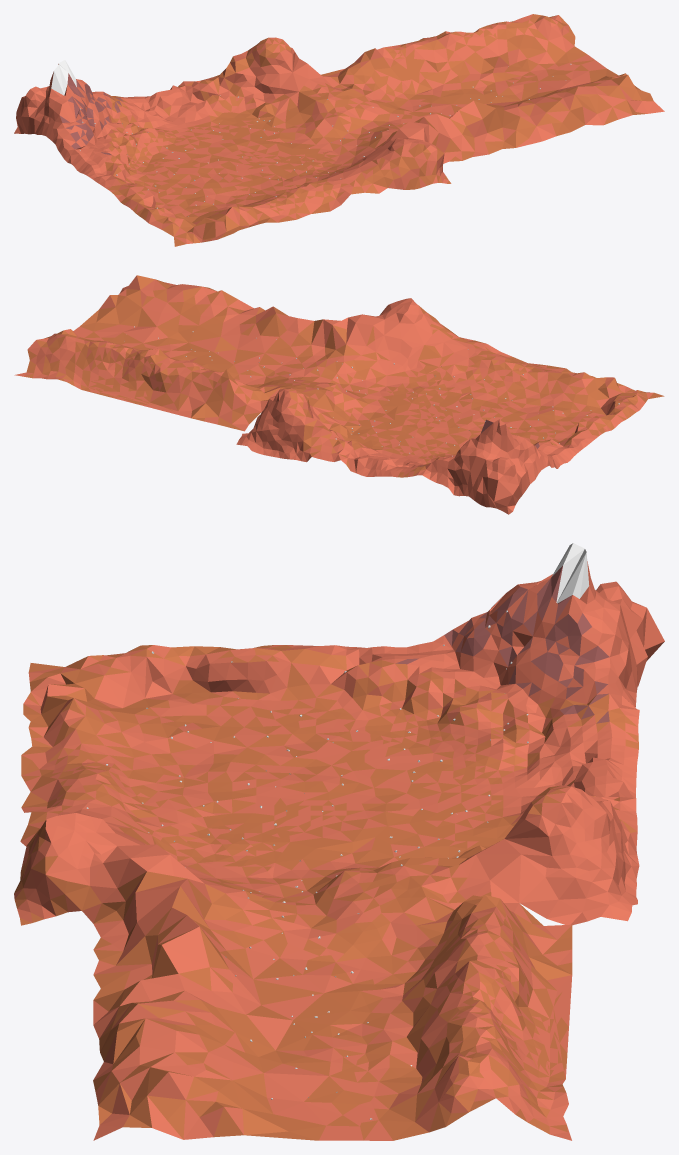
File: Marsian surfacee.fbx
3 renders of one model, top to bottom at view 1: azimuth 30°, elevation 25°; view 2: azimuth 150°, elevation 25°; view 3: azimuth 270°, elevation 25°, orthographic. The views are drawn at different scales.
Visible parts, largest first — view 1: Plane; view 2: Plane; view 3: Plane.
Part boxes in pixels (x1,y1,x2,y2): Plane: [14, 14, 664, 246]; Plane: [14, 275, 664, 514]; Plane: [14, 543, 664, 1140].
Bounding box in the file's own units: 82534 × 12520 × 46904.
